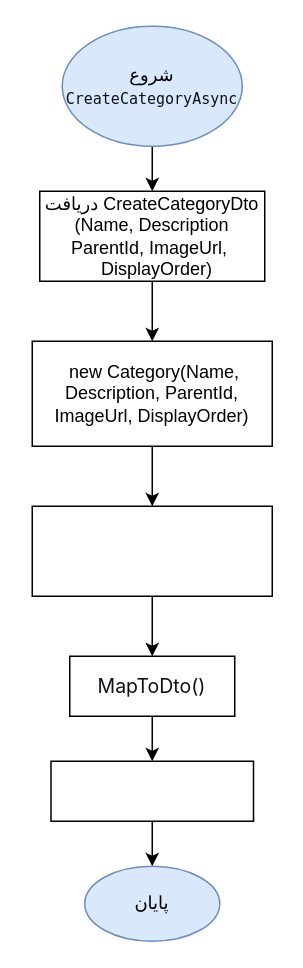
The diagram is 303 pixels wide and 968 high, and some of its shapes have lost their labels. Here are the shapes that lost their labels. From the top down, the box of each, then its label:
(31, 505, 272, 596): CreateCategoryAsync(category)
(50, 760, 254, 821): return CategoryDto
